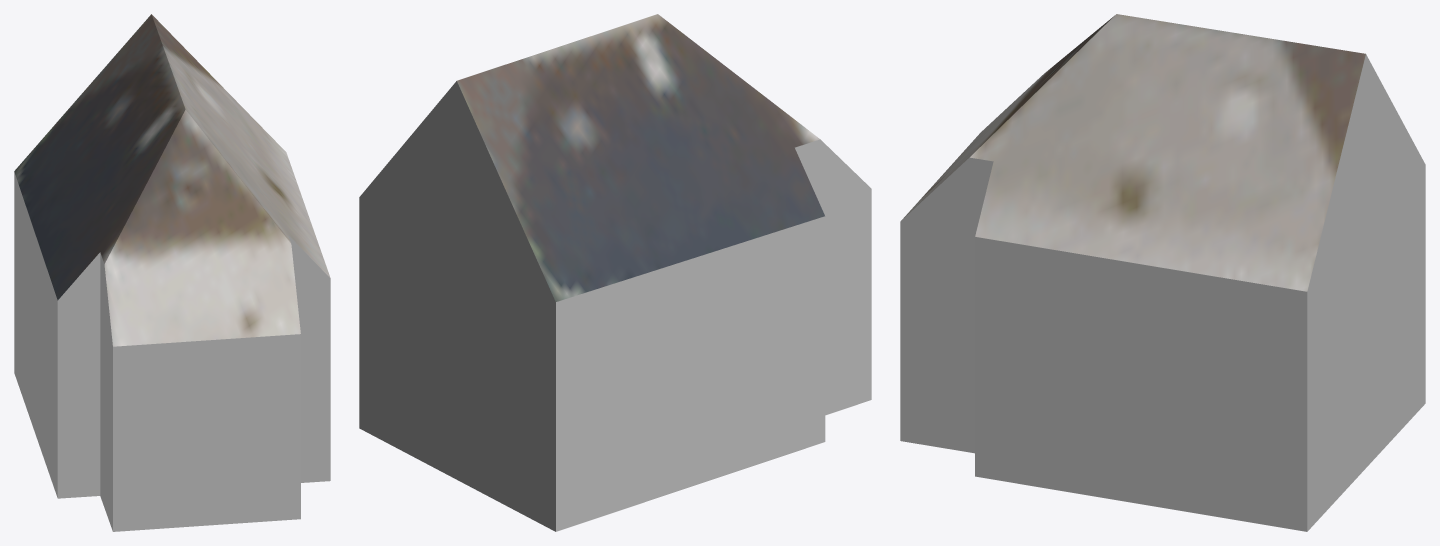
Rendered from DEBW_0010007Txf7.gltf.
3 renders of one model, left to right at view 1: azimuth 30°, elevation 25°; view 2: azimuth 150°, elevation 25°; view 3: azimuth 270°, elevation 25°, orthographic. The views are drawn at different scales.
Parts seen in each view (by area): view 1: Z_UP; view 2: Z_UP; view 3: Z_UP.
Boxes of the visible parts, x1=… form: Z_UP: x1=14, y1=14, x2=330, y2=531; Z_UP: x1=359, y1=14, x2=871, y2=531; Z_UP: x1=900, y1=14, x2=1425, y2=531.
Size of the model in its own units: 12.7 by 13.33 by 15.31.
2 materials, 1 textured.
